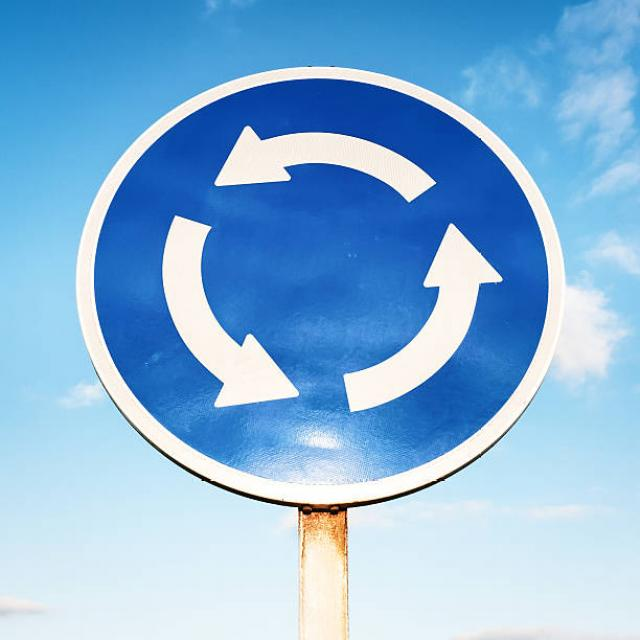round_about: (73, 60, 568, 507)
